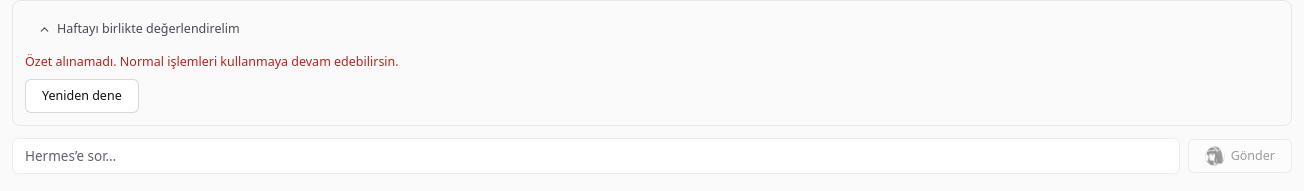
Test: summary failure stays dismissible with deliberate retry
Expected: the message "Özet alınamadı. Normal işlemleri kullanmaya devam edebilirsin. Yeniden dene" is shown, [25, 53, 399, 113]
Expected: the button "Yeniden dene" is shown, [25, 79, 139, 113]
Click the button "Haftayı birlikte değerlendirelim".
click(139, 29)  # box [25, 13, 253, 45]
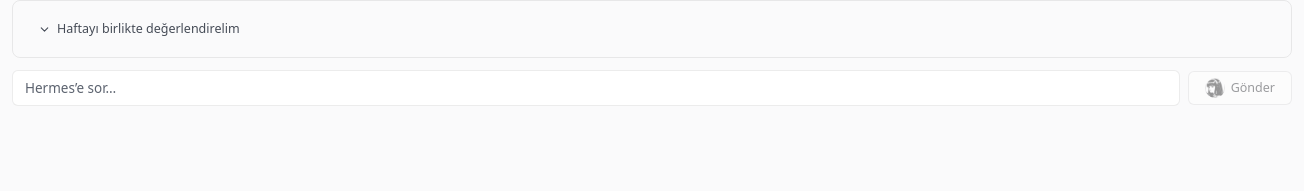
Expected: the message "Özet alınamadı. Normal işlemleri kullanmaya devam edebilirsin. Yeniden dene" is gone
